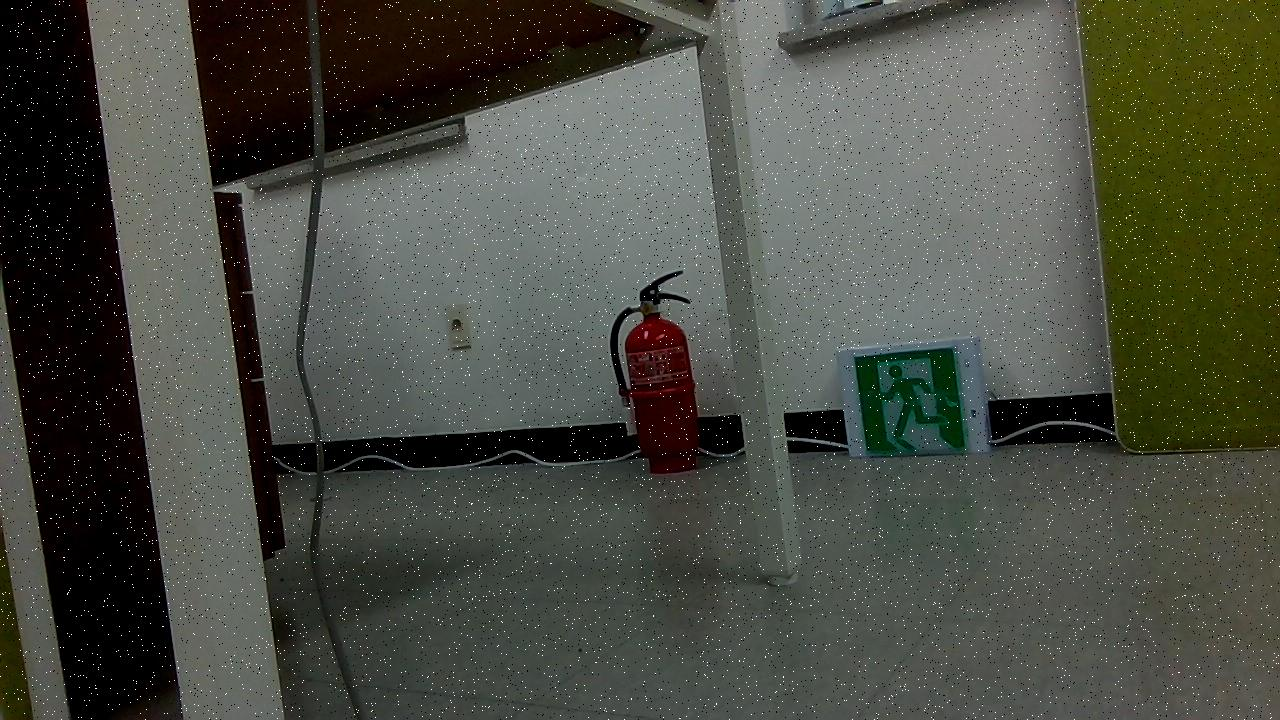emergency_exit: (836, 335, 990, 459)
